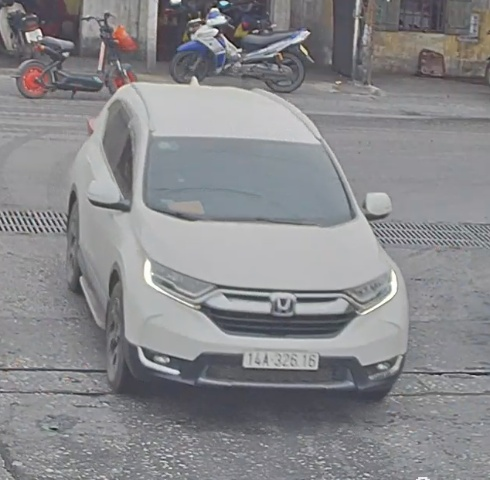vehicle plate: (241, 340, 324, 375)
